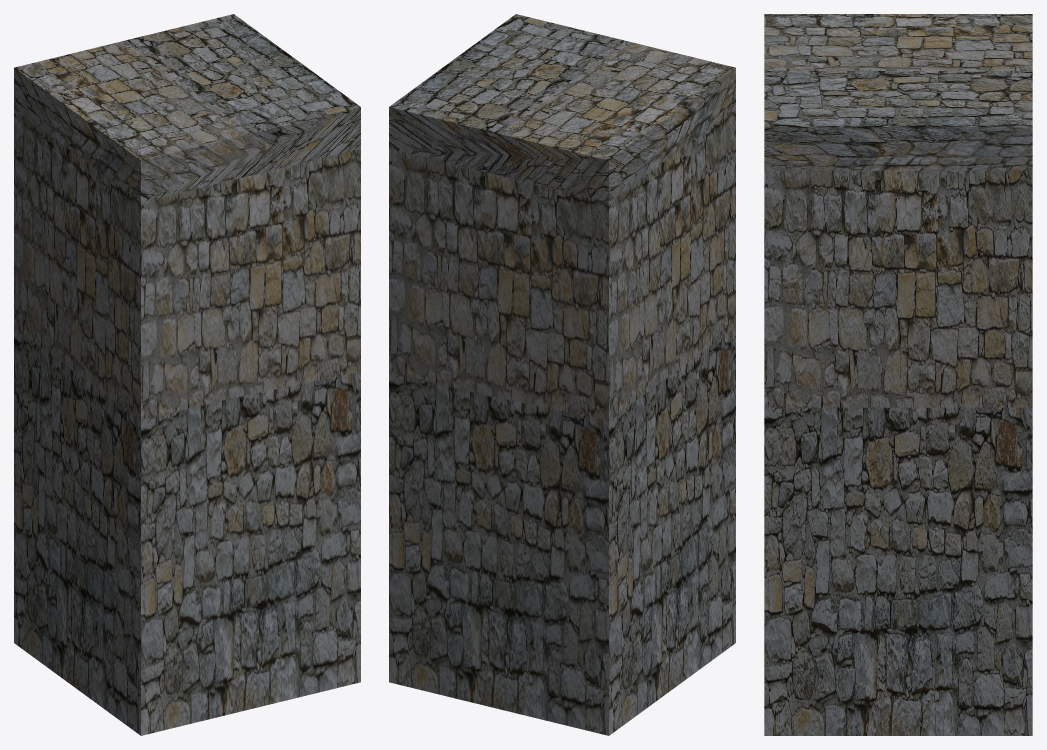
File: foundation.glb
3 views of the same model, side by side, from view 1: azimuth 30°, elevation 25°; view 2: azimuth 150°, elevation 25°; view 3: azimuth 270°, elevation 25° (orthographic). The views are drawn at different scales.
Visible parts, largest first — view 1: Cube; view 2: Cube; view 3: Cube.
Part boxes in pixels (left/top/right/bottom): Cube: left=14, top=14, right=360, bottom=735; Cube: left=389, top=14, right=735, bottom=735; Cube: left=764, top=14, right=1032, bottom=735.
Bounding box in the file's own units: 2 × 5 × 2.
Materials: 1 (1 with a texture image).
